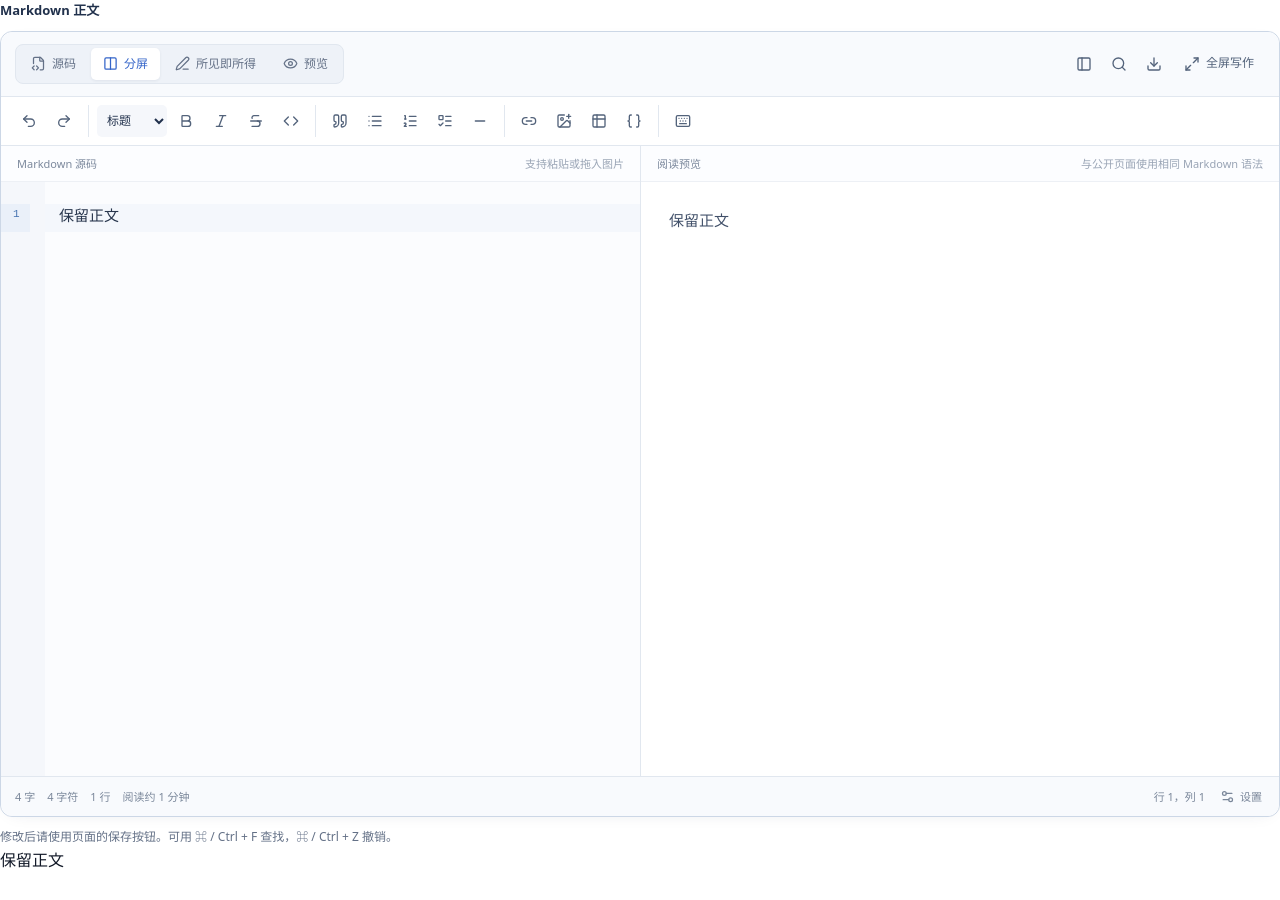
it: Markdown writing workspace › keeps insertion dialogs inside the visible viewport as a phone keyboard opens
What coordinates should you click on to do the following:
click the button named "插入链接"
I would click on:
 (529, 121)
Its box is [513, 105, 545, 137].
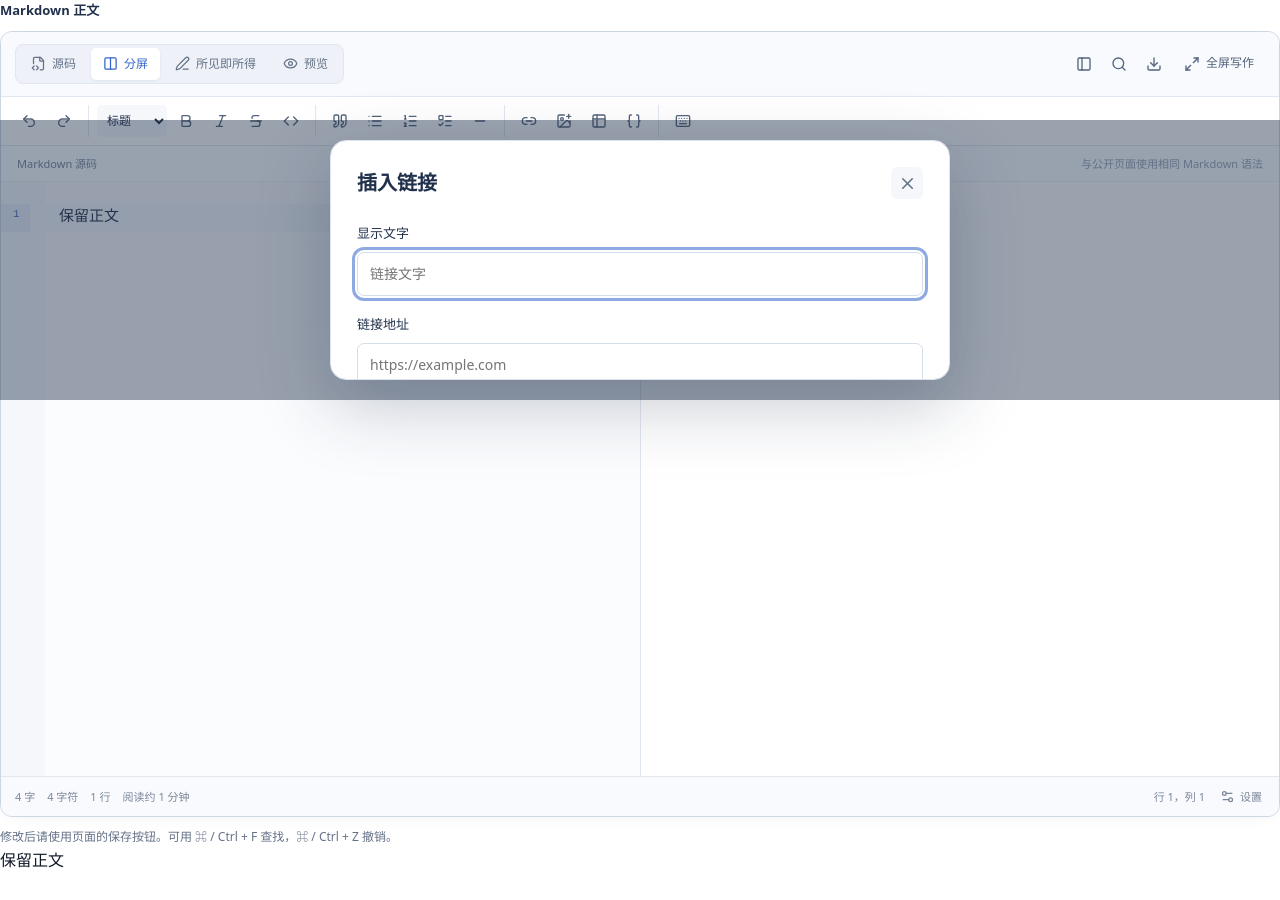
What coordinates should you click on to do the following:
click the button named "关闭插入链接"
I would click on:
 (907, 183)
Its box is [891, 167, 923, 199].
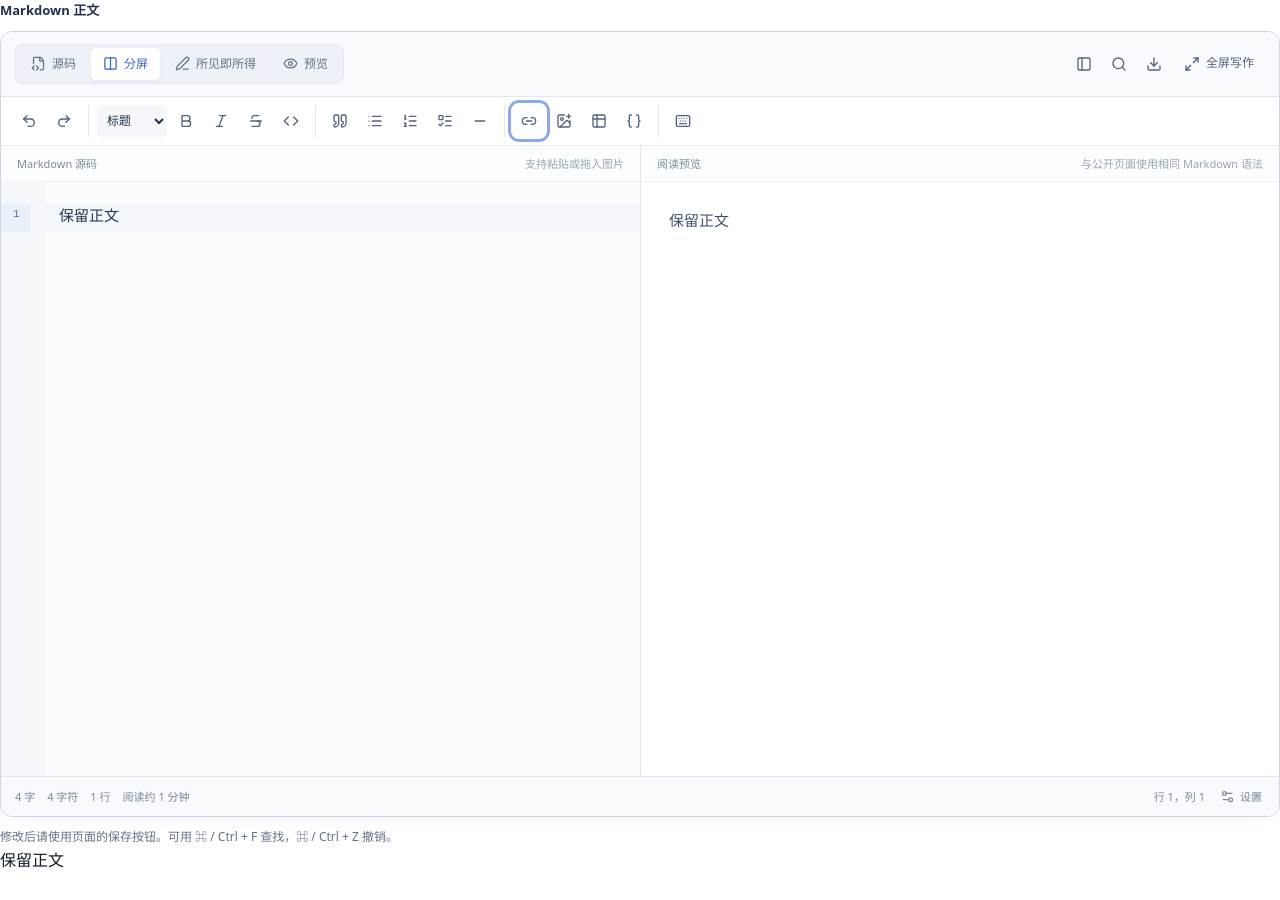
Expected: the heading "插入链接" is gone
